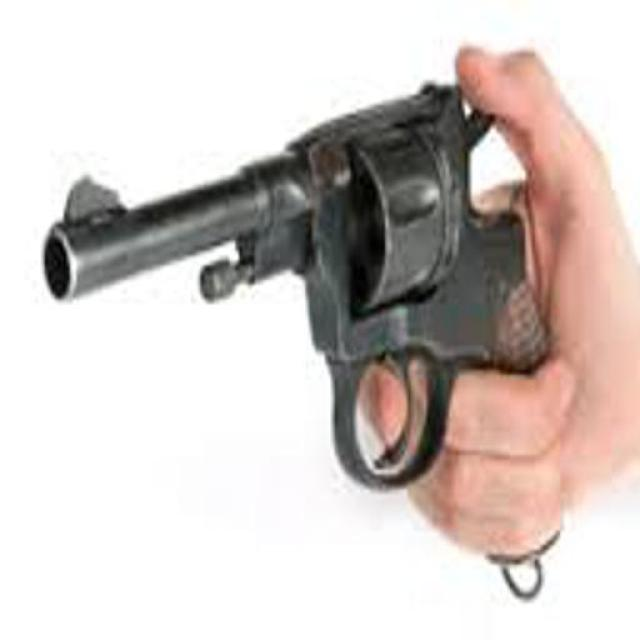pistol: (44, 75, 566, 559)
